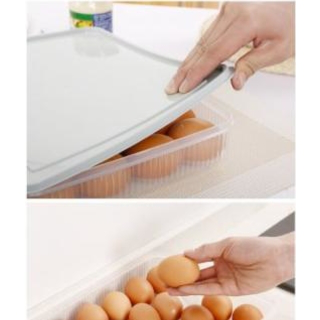egg: (55, 251, 262, 320), (83, 105, 226, 197)
